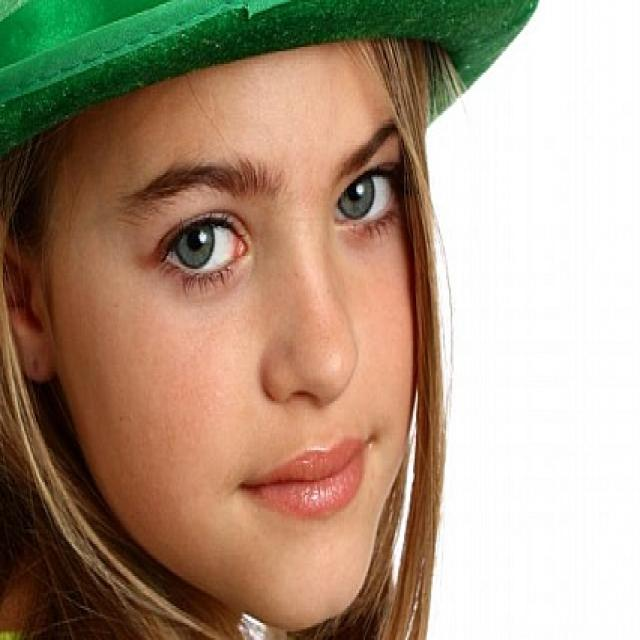Eyes: (135, 160, 422, 276)
